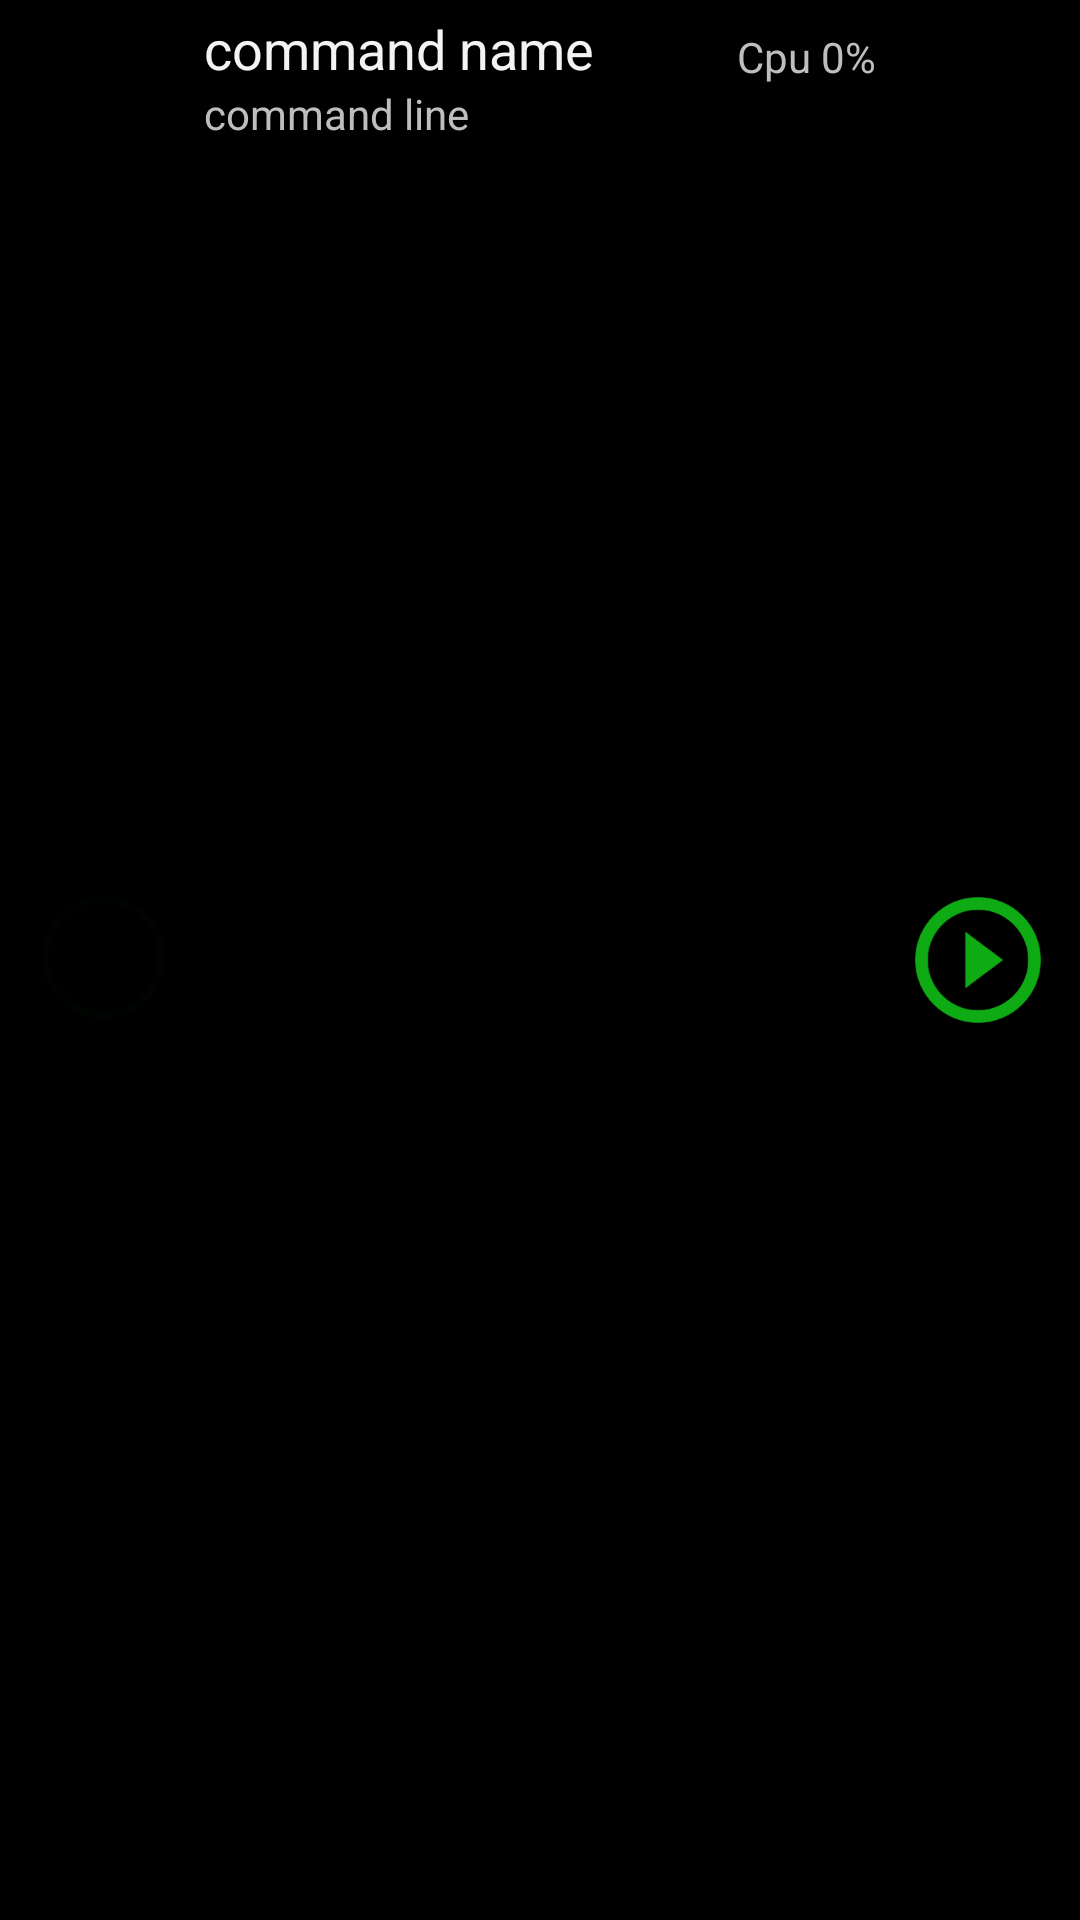

Icon bounding boxes for this 1080*1920 phone screenshot, format (x1, y1, x2, y2):
play: (915, 897, 1041, 1023)
